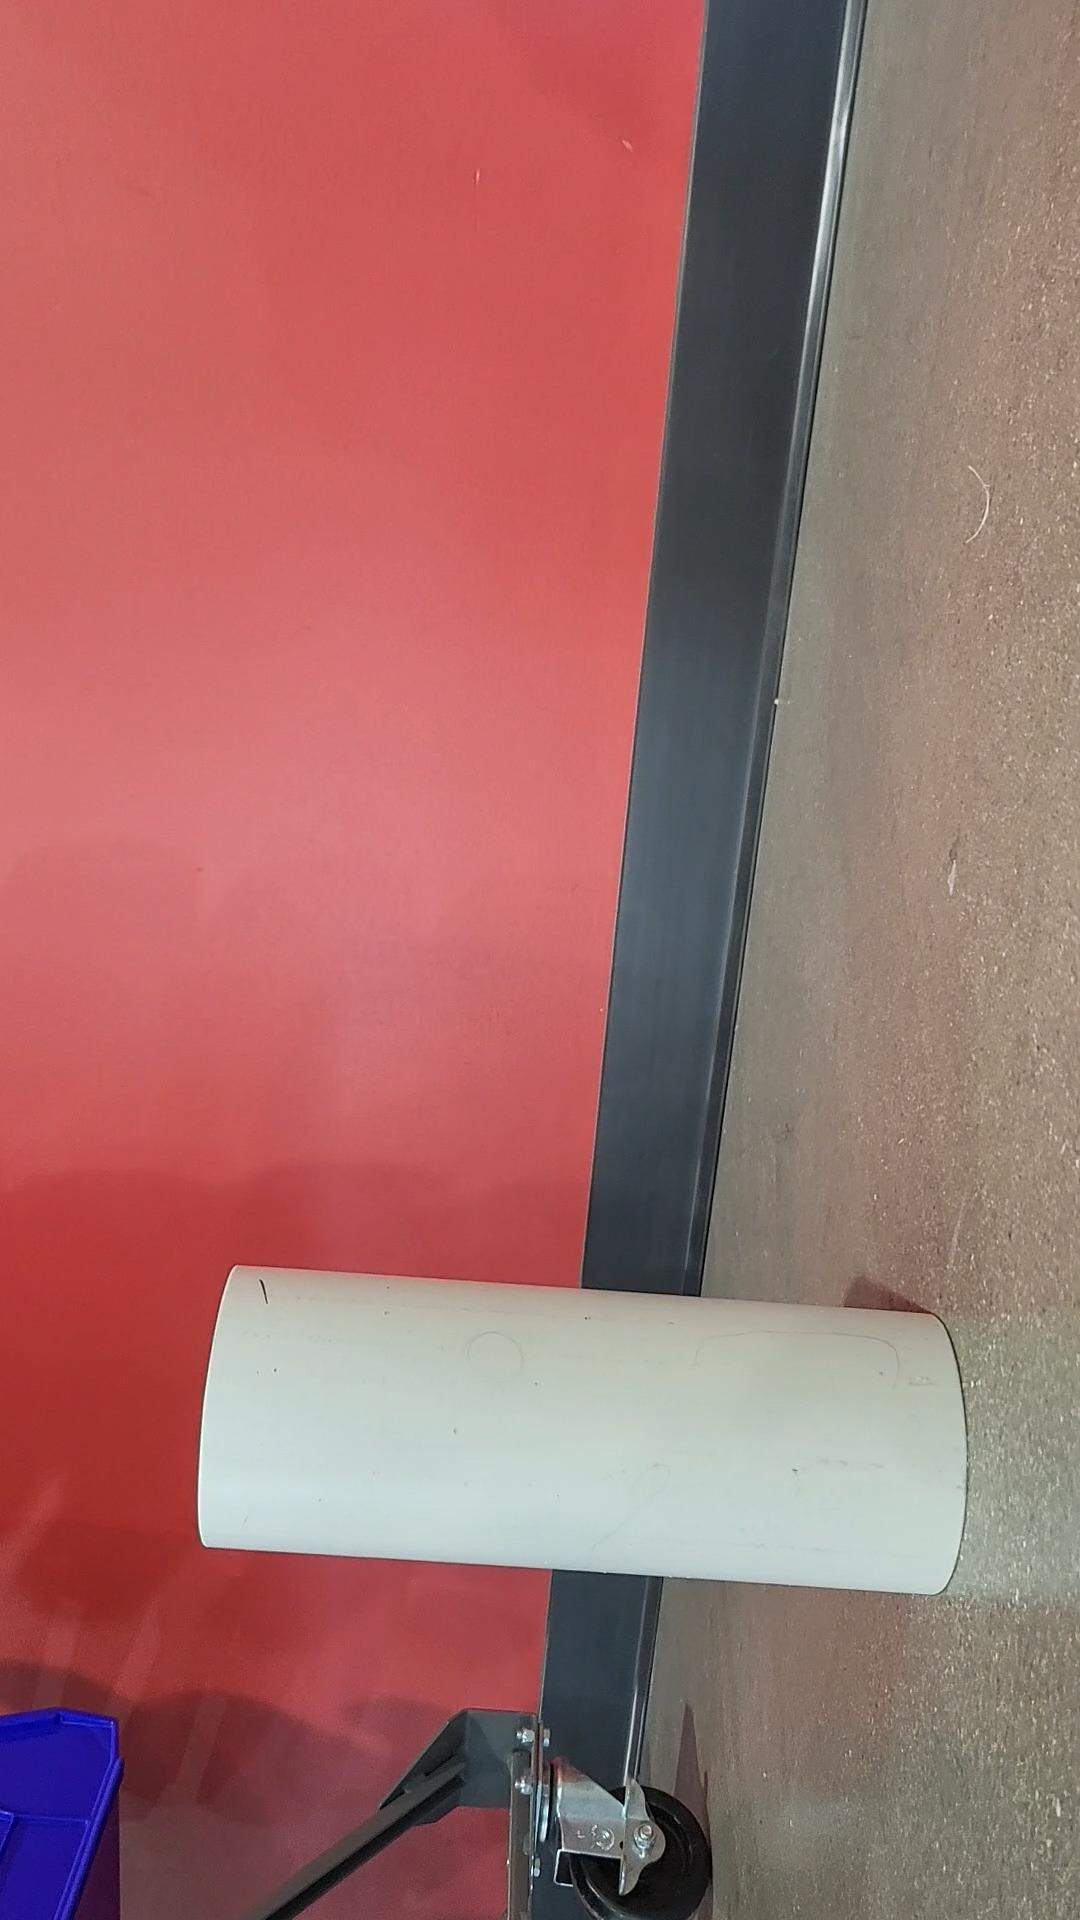coral: (198, 1262, 963, 1593)
